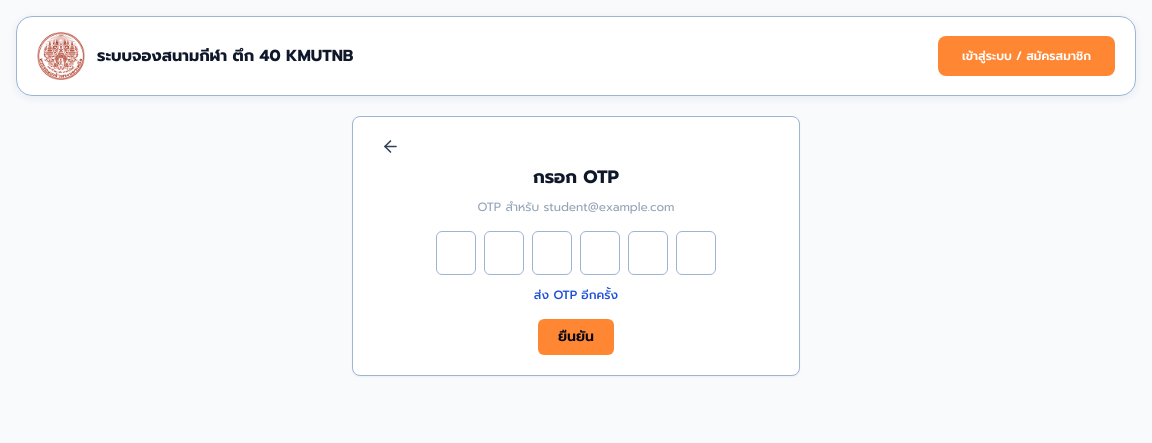
keeps the OTP step on API failure: OTP หมดอายุ
This screenshot has width=1152, height=443.
Type "1" into the field named "OTP หลักที่ 1". click: (456, 253)
box: [436,231,476,275]
Type "2" into the field named "OTP หลักที่ 2". click: (504, 253)
box: [484,231,524,275]
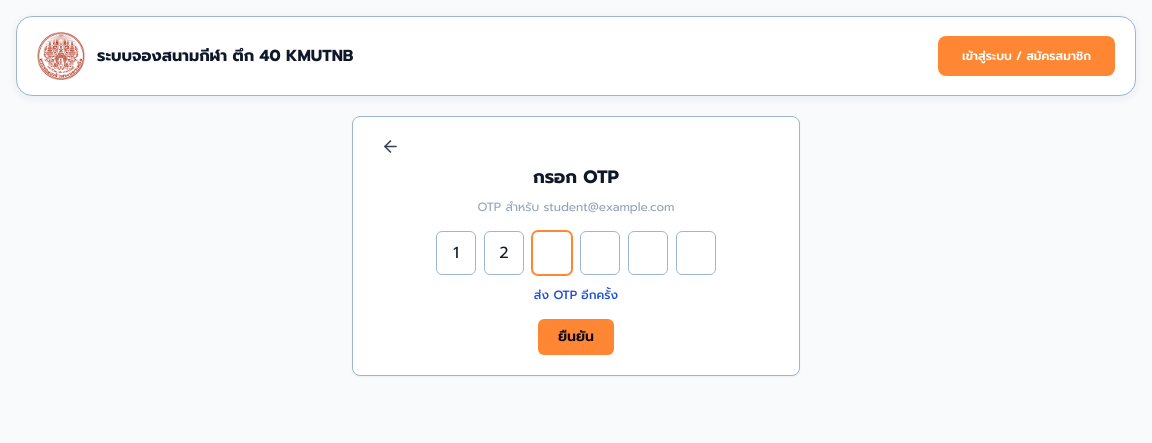
Type "3" into the field named "OTP หลักที่ 3". click: (552, 253)
box: [532,231,572,275]
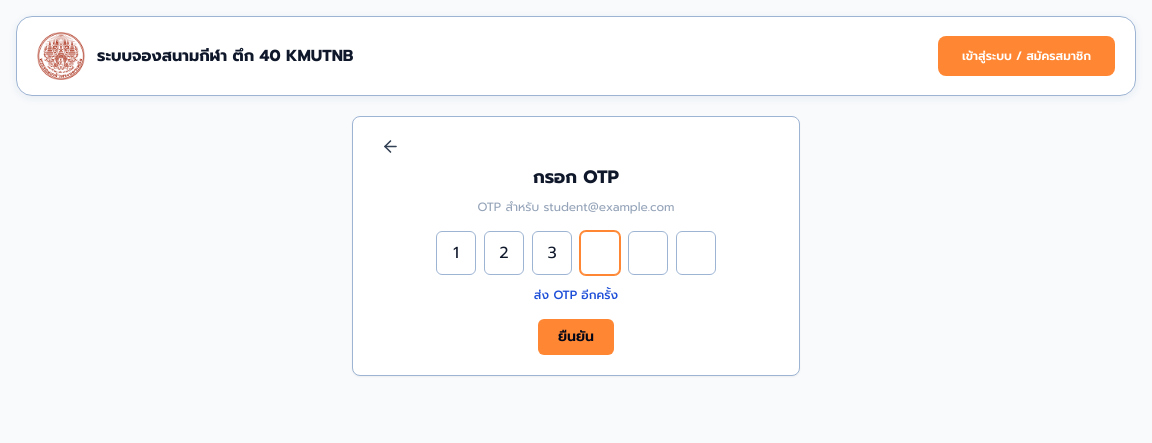
Type "4" into the field named "OTP หลักที่ 4". click: (600, 253)
box: [580,231,620,275]
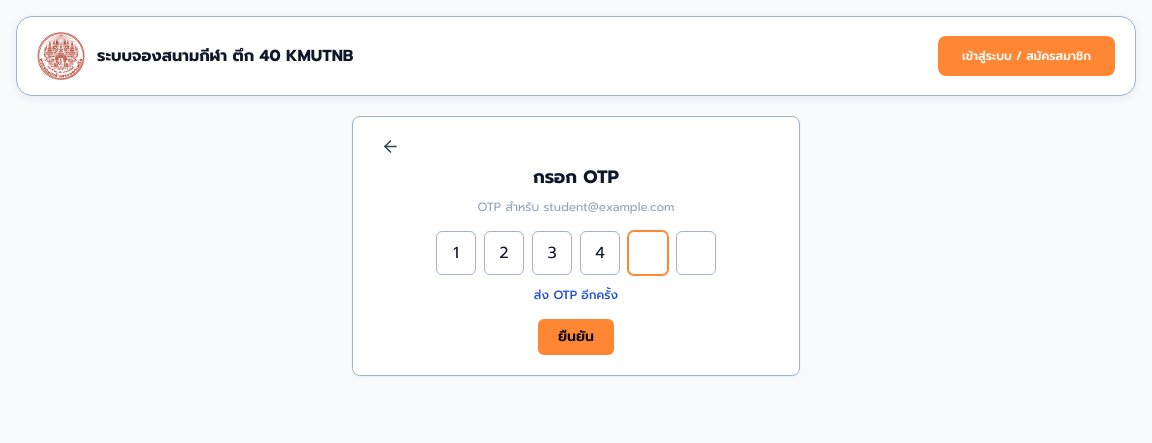
Type "5" into the field named "OTP หลักที่ 5". click: (648, 253)
box: [628,231,668,275]
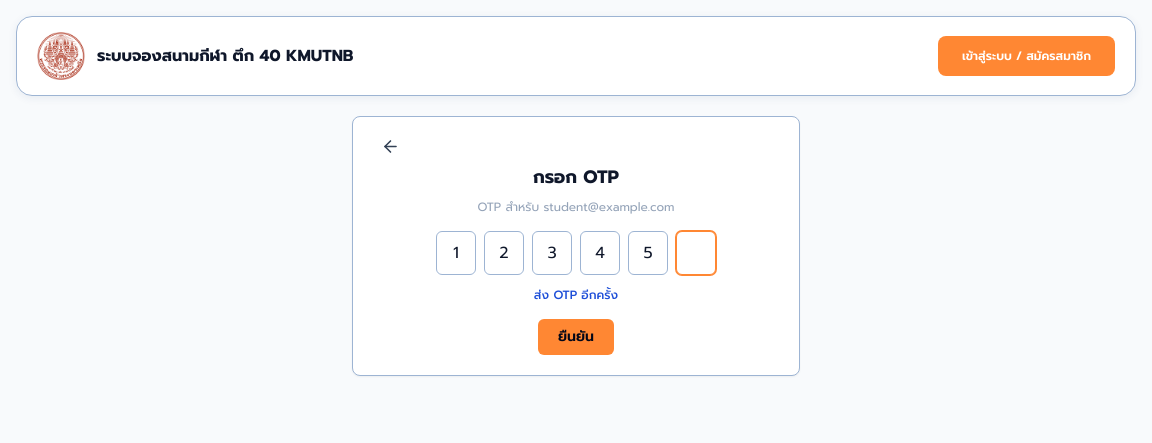
Type "6" into the field named "OTP หลักที่ 6". click: (696, 253)
box: [676,231,716,275]
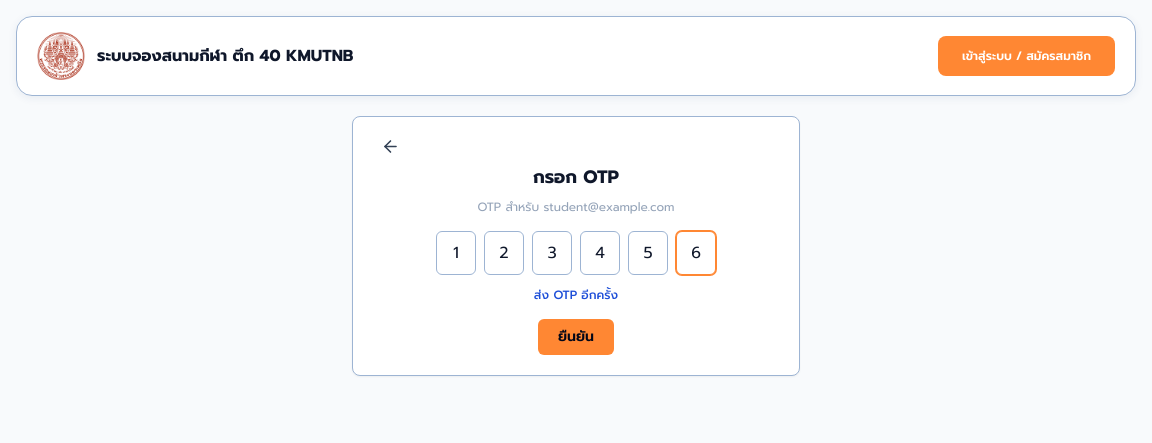
Click the button "ยืนยัน". click: (576, 337)
box: [538,319,614,355]
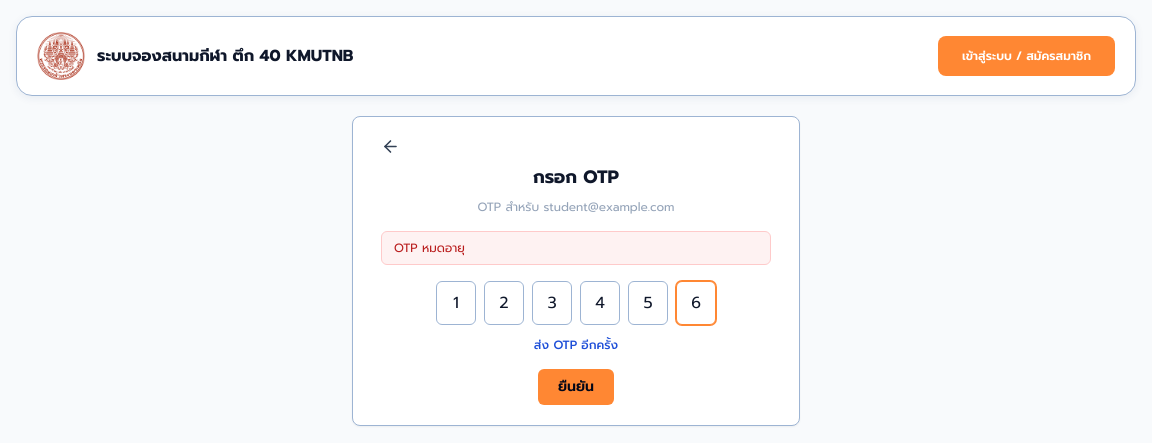
Now the message reads "OTP หมดอายุ", box [394,239,465,257]
